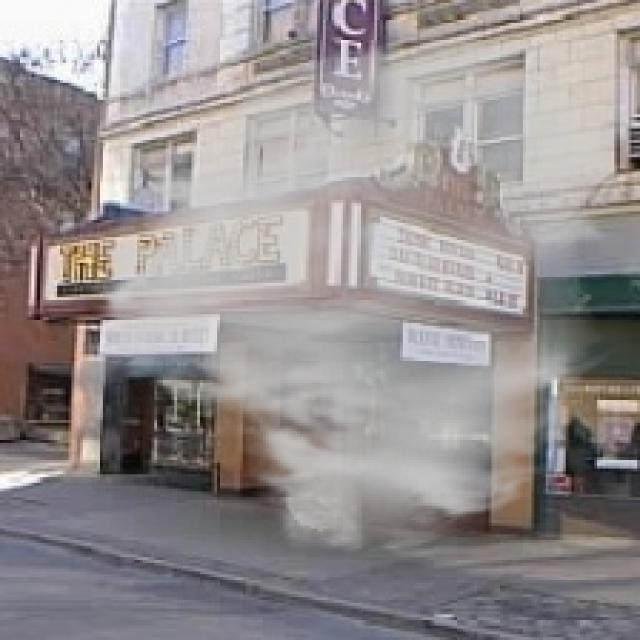Smoke: (66, 20, 628, 557)
